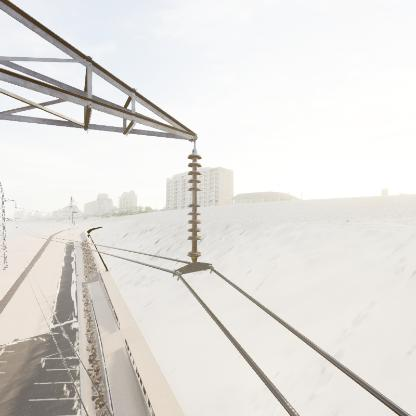insulator: (185, 149, 206, 264)
